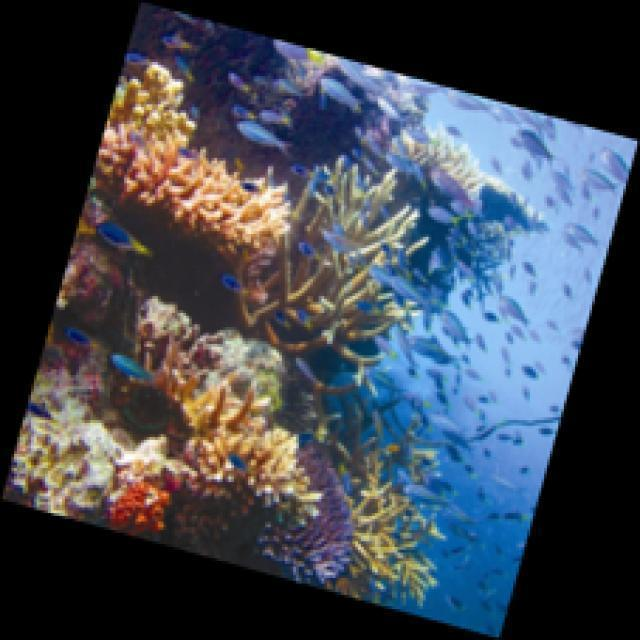Bleached Coral: (401, 121, 496, 201)
Healthy Coral: (93, 72, 303, 288), (170, 353, 322, 532), (277, 155, 412, 346), (265, 428, 371, 587), (352, 451, 460, 582), (95, 460, 184, 538)
